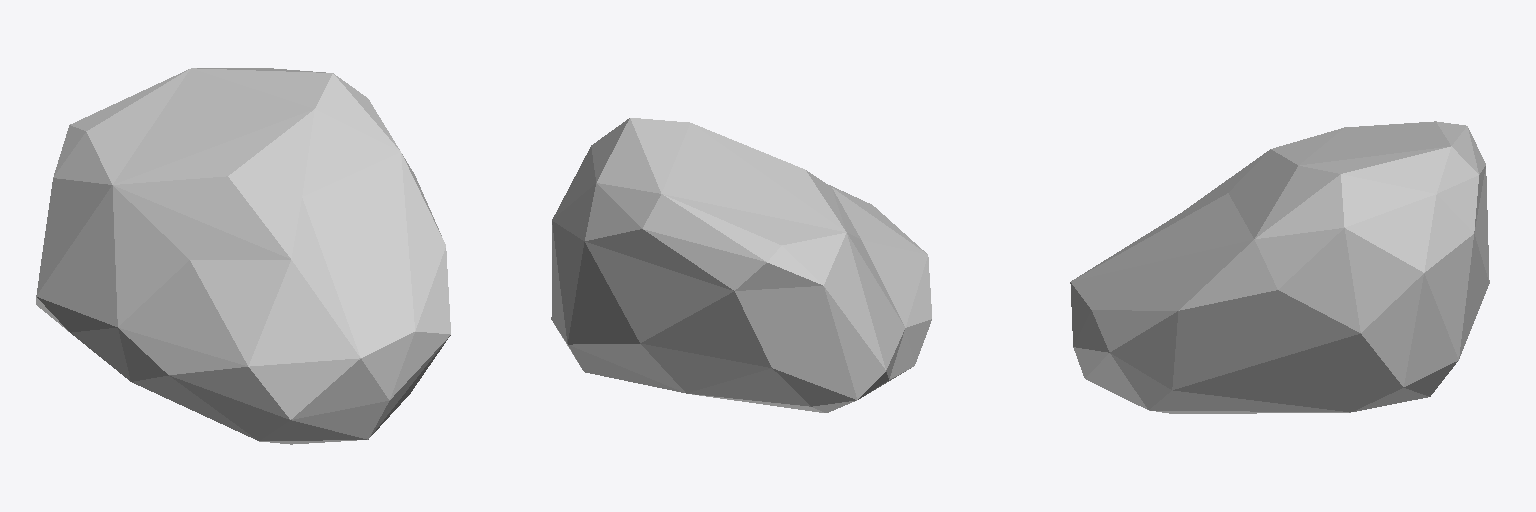
The model's file is Stone.obj.
The picture shows the model from 3 angles: view 1: azimuth 30°, elevation 25°; view 2: azimuth 150°, elevation 25°; view 3: azimuth 270°, elevation 25°; orthographic projection.
Parts seen in each view (by area): view 1: Icosphere; view 2: Icosphere; view 3: Icosphere.
Part boxes in pixels (x1,y1,x2,y2): Icosphere: (36,68,450,444); Icosphere: (551,118,931,412); Icosphere: (1070,121,1489,413).
Size of the model in its own units: 1.25 by 0.949 by 1.34.